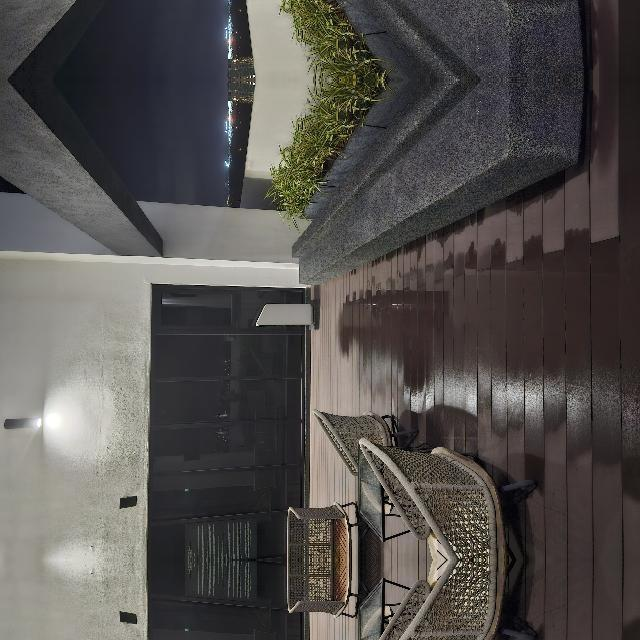obstacle: (273, 370, 479, 640), (273, 452, 479, 640), (0, 436, 124, 620), (0, 500, 123, 640), (81, 391, 152, 501), (16, 434, 122, 500), (1, 366, 61, 450), (15, 620, 122, 640), (230, 334, 260, 398), (81, 619, 152, 640)
